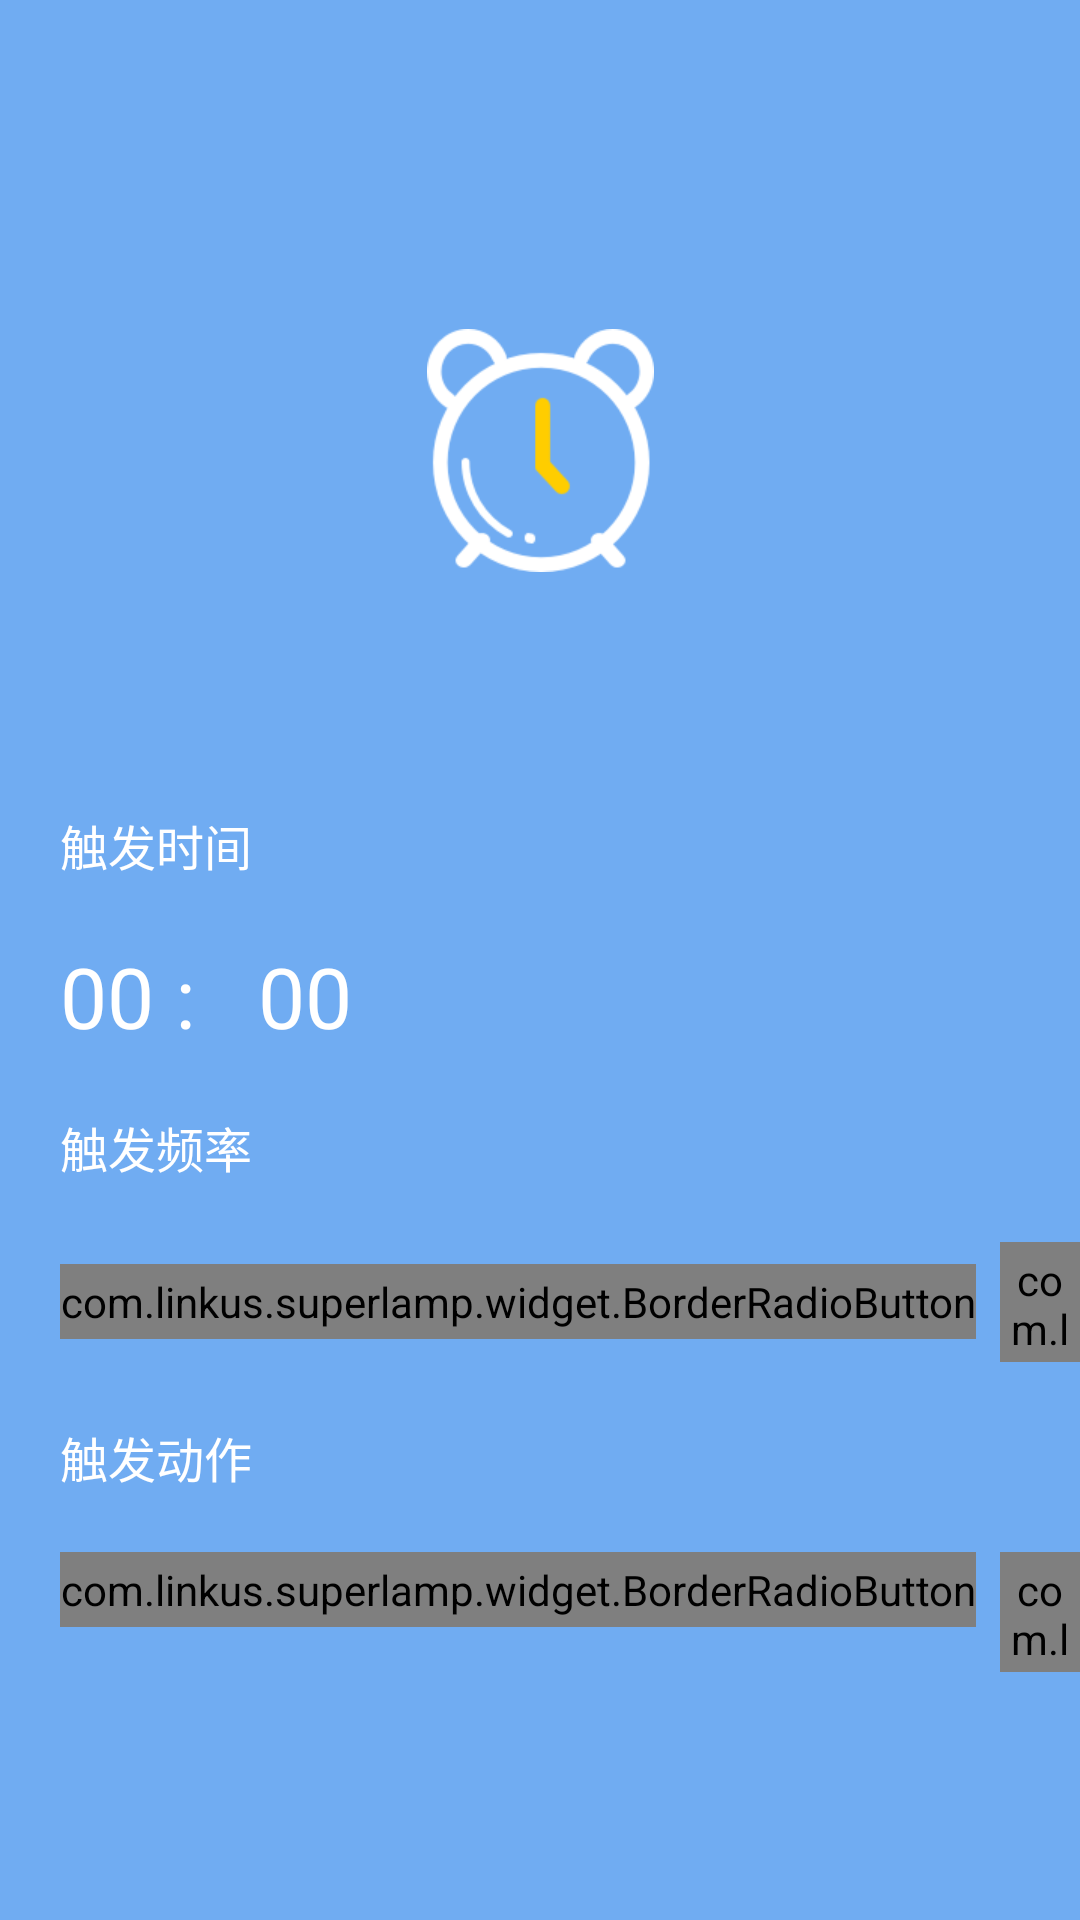

Screen size 1080 × 1920. Icon name, then its box in pixels as (x1, y1, x2, y2):
alarm: (427, 329, 654, 572)
